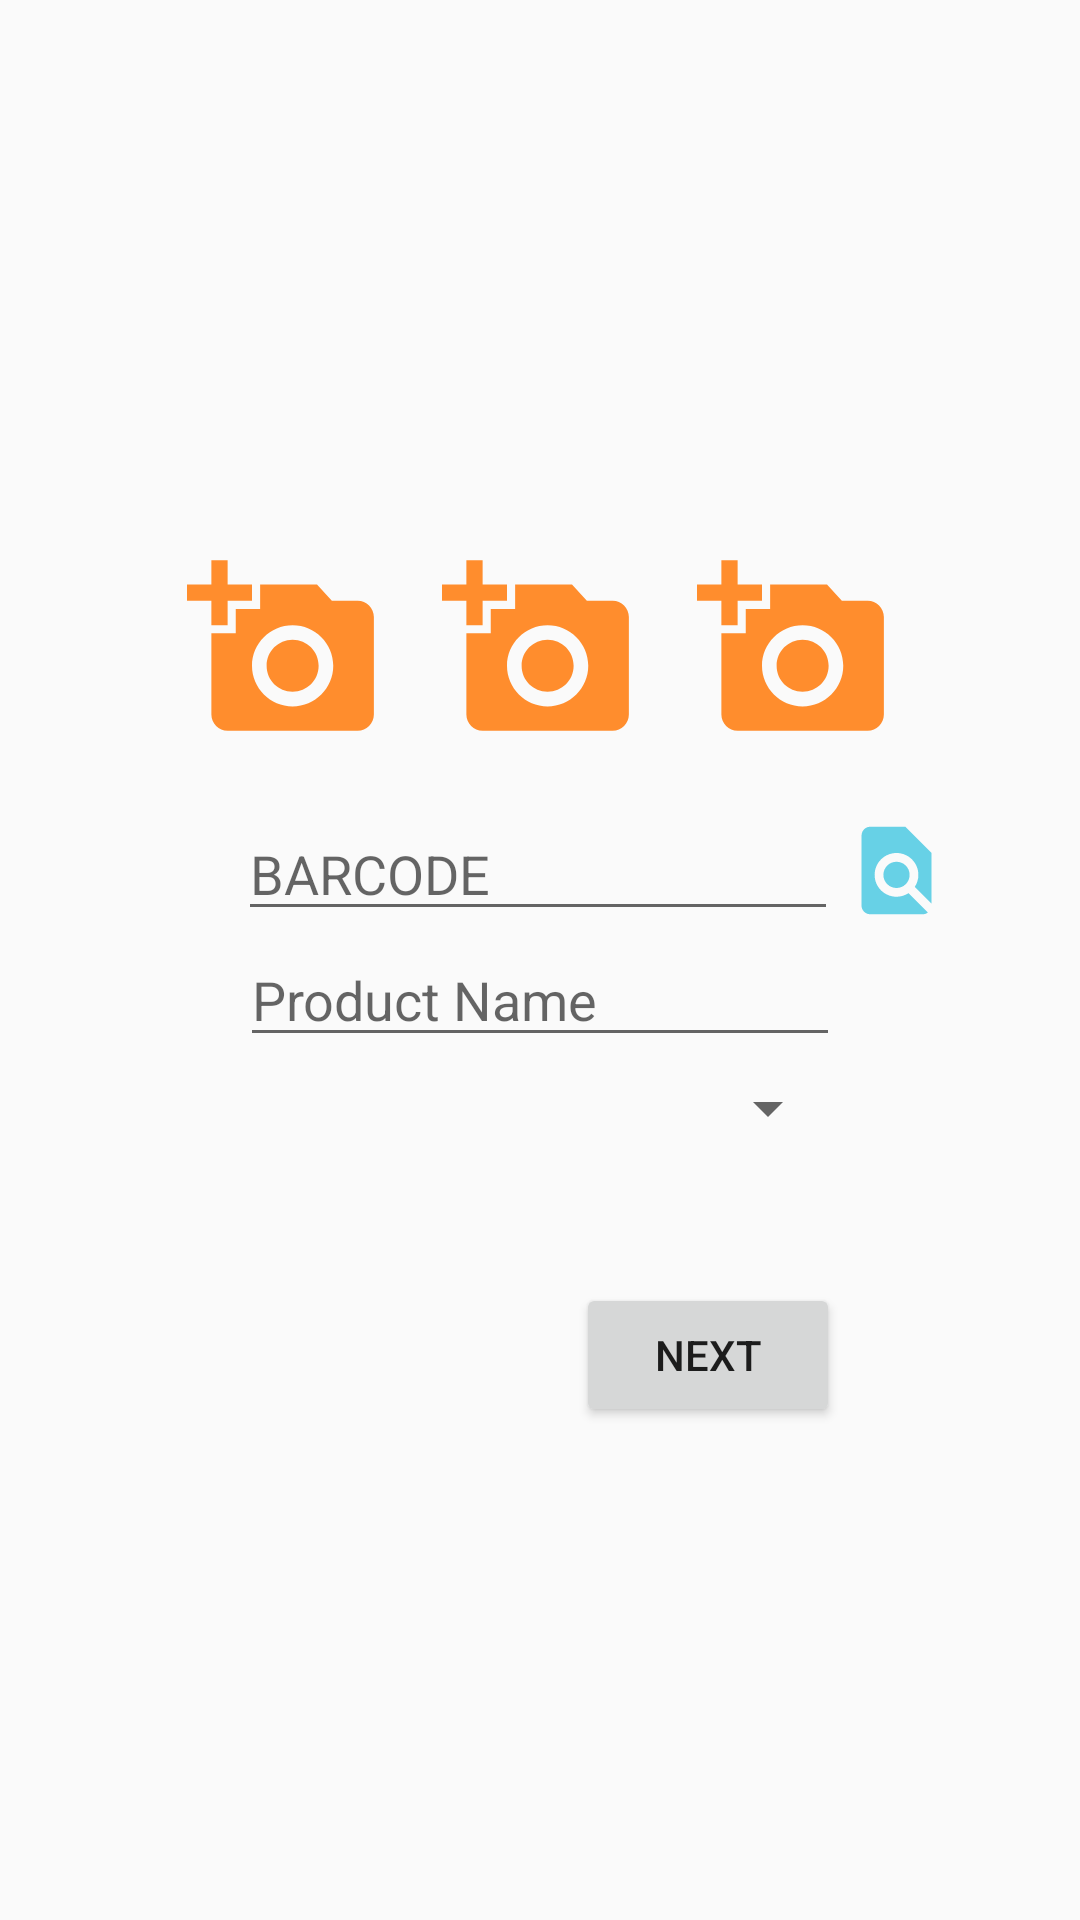

Named icons in this screenshot (1080w x 1920h) and their centers, (x,y):
addphoto: (280,645), (535,645), (790,645)
find in page: (896,870)
